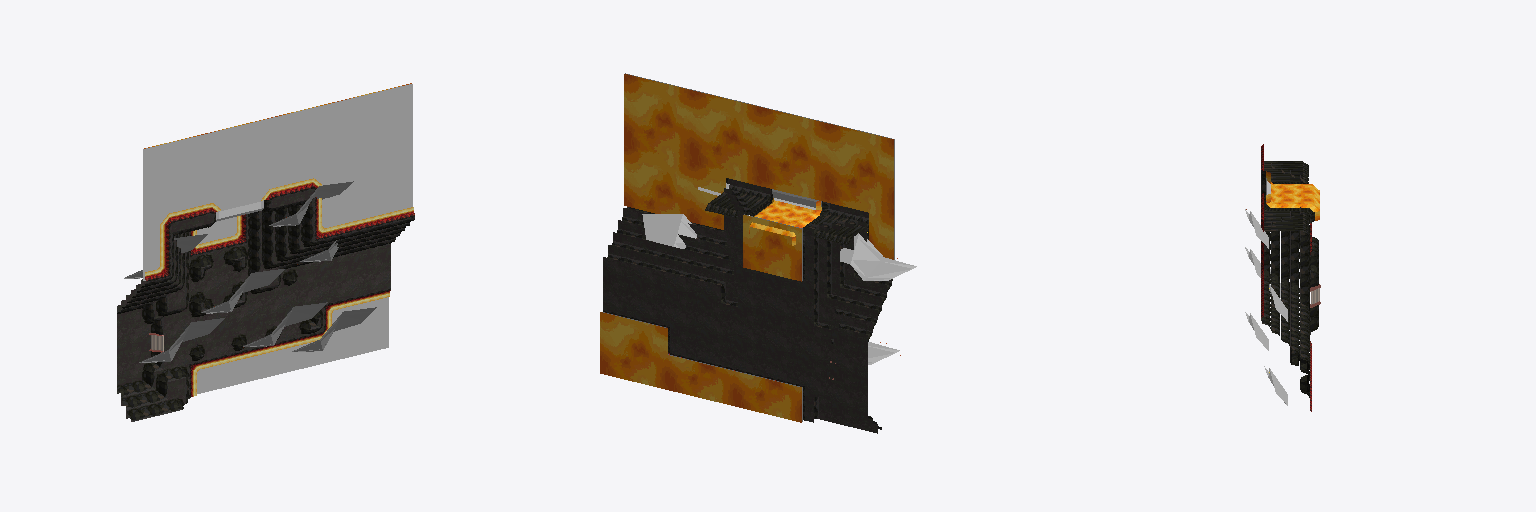
The picture shows the model from 3 angles: view 1: azimuth 30°, elevation 25°; view 2: azimuth 150°, elevation 25°; view 3: azimuth 270°, elevation 25°; orthographic projection.
Visible parts, largest first — view 1: map; view 2: map; view 3: map.
Boxes of the visible parts, <box> form: map: <box>117,83,414,421</box>; map: <box>600,73,916,433</box>; map: <box>1245,144,1320,411</box>.
Size of the model in its own units: 35.59 by 32 by 8.41.
19 materials, 11 textured.